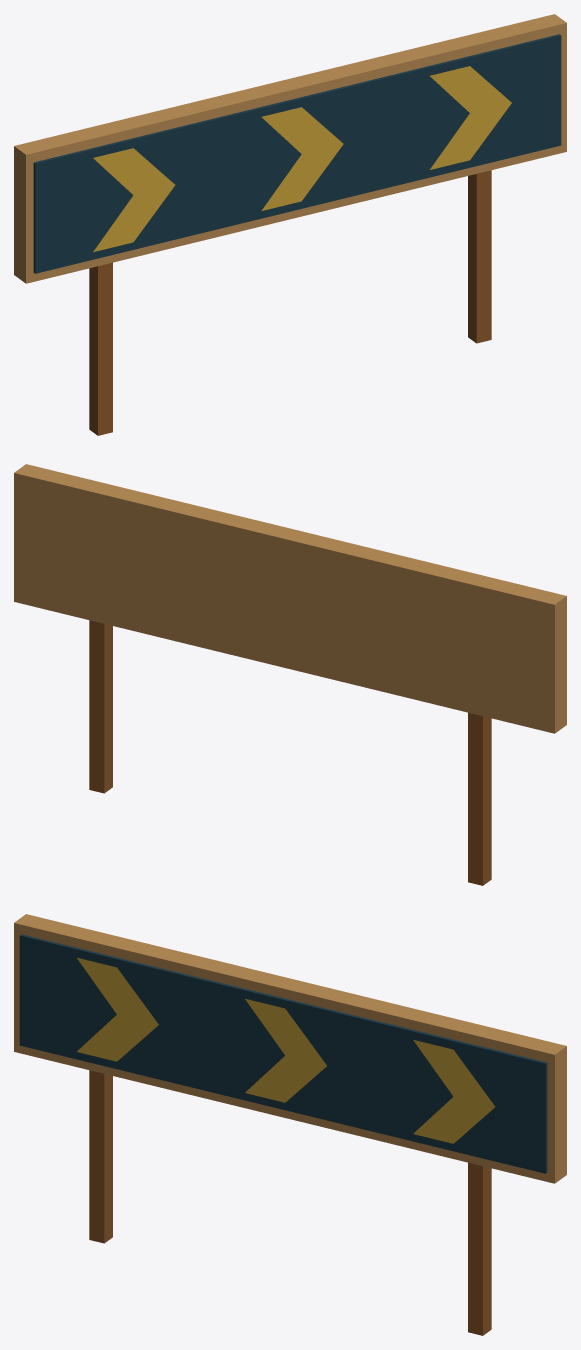
Rendered from corner_chevrons.glb.
3 renders of one model, top to bottom at view 1: azimuth 30°, elevation 25°; view 2: azimuth 150°, elevation 25°; view 3: azimuth 330°, elevation 25°, orthographic.
Visible parts, largest first — view 1: corner_chevrons_pc; view 2: corner_chevrons_pc; view 3: corner_chevrons_pc.
Boxes of the visible parts, x1,y1,x2,y2 form: corner_chevrons_pc: (14,14,566,435); corner_chevrons_pc: (14,464,566,885); corner_chevrons_pc: (14,914,566,1335).
Size of the model in its own units: 3.6 by 1.91 by 0.165.
